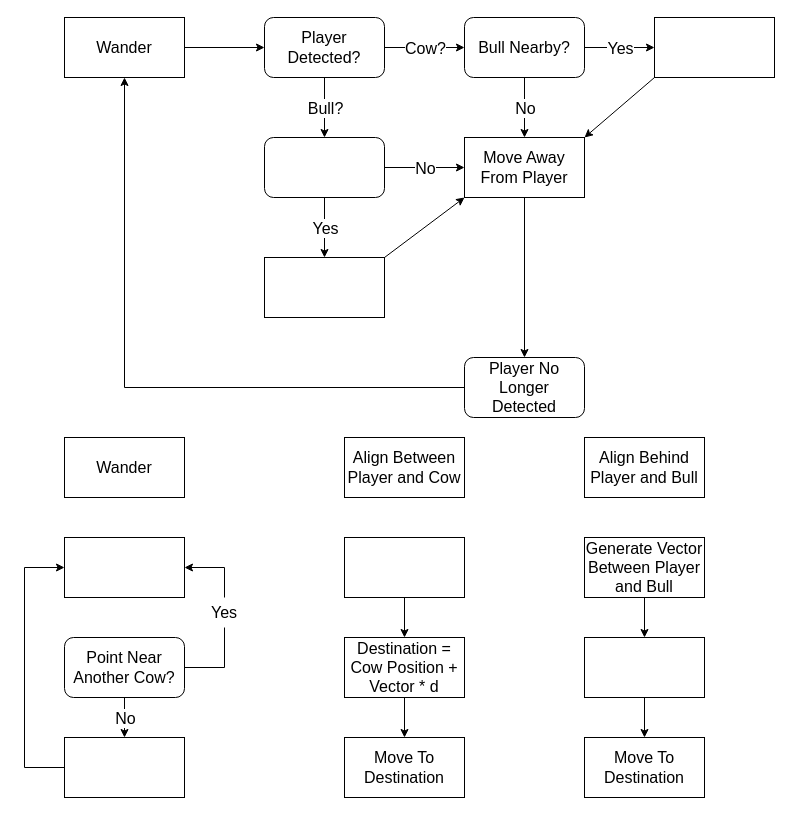
This 792x815 diagram has some shape labels left out. Each missing label, with the centre of its shape:
"Cow Nearby?" belongs at (x=324, y=167).
"Destination = Cow Position - Vector * d" belongs at (x=644, y=667).
"Generate Vector Between Player and Cow" belongs at (x=404, y=567).
"Move Behind Bull From Player" belongs at (x=714, y=47).
"Move Between Player and Cow" belongs at (x=324, y=287).
"Move To Point" belongs at (x=124, y=767).
"Random Point in Unit Circle" belongs at (x=124, y=567).
